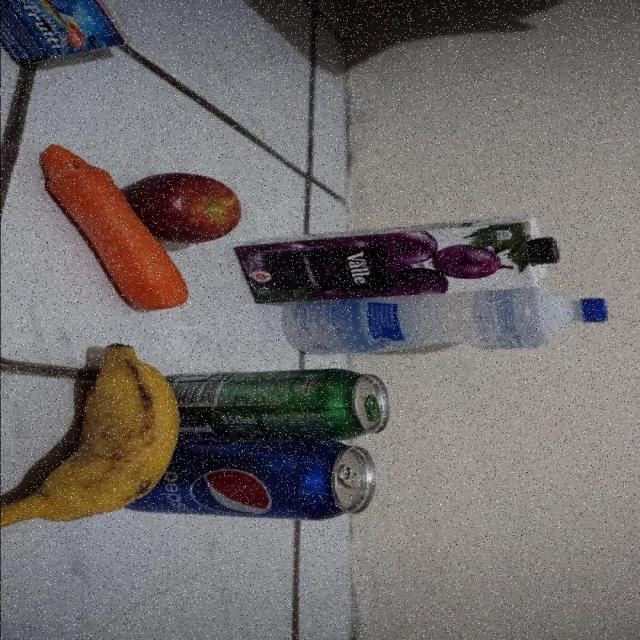AlcoholBottle: (269, 284, 609, 357)
Apple: (121, 171, 241, 243)
Banana: (0, 344, 180, 536)
BeerCan: (157, 368, 391, 441)
Carrot: (36, 144, 190, 310)
Gelatine: (0, 0, 128, 66)
SodaCan: (115, 438, 375, 523)
